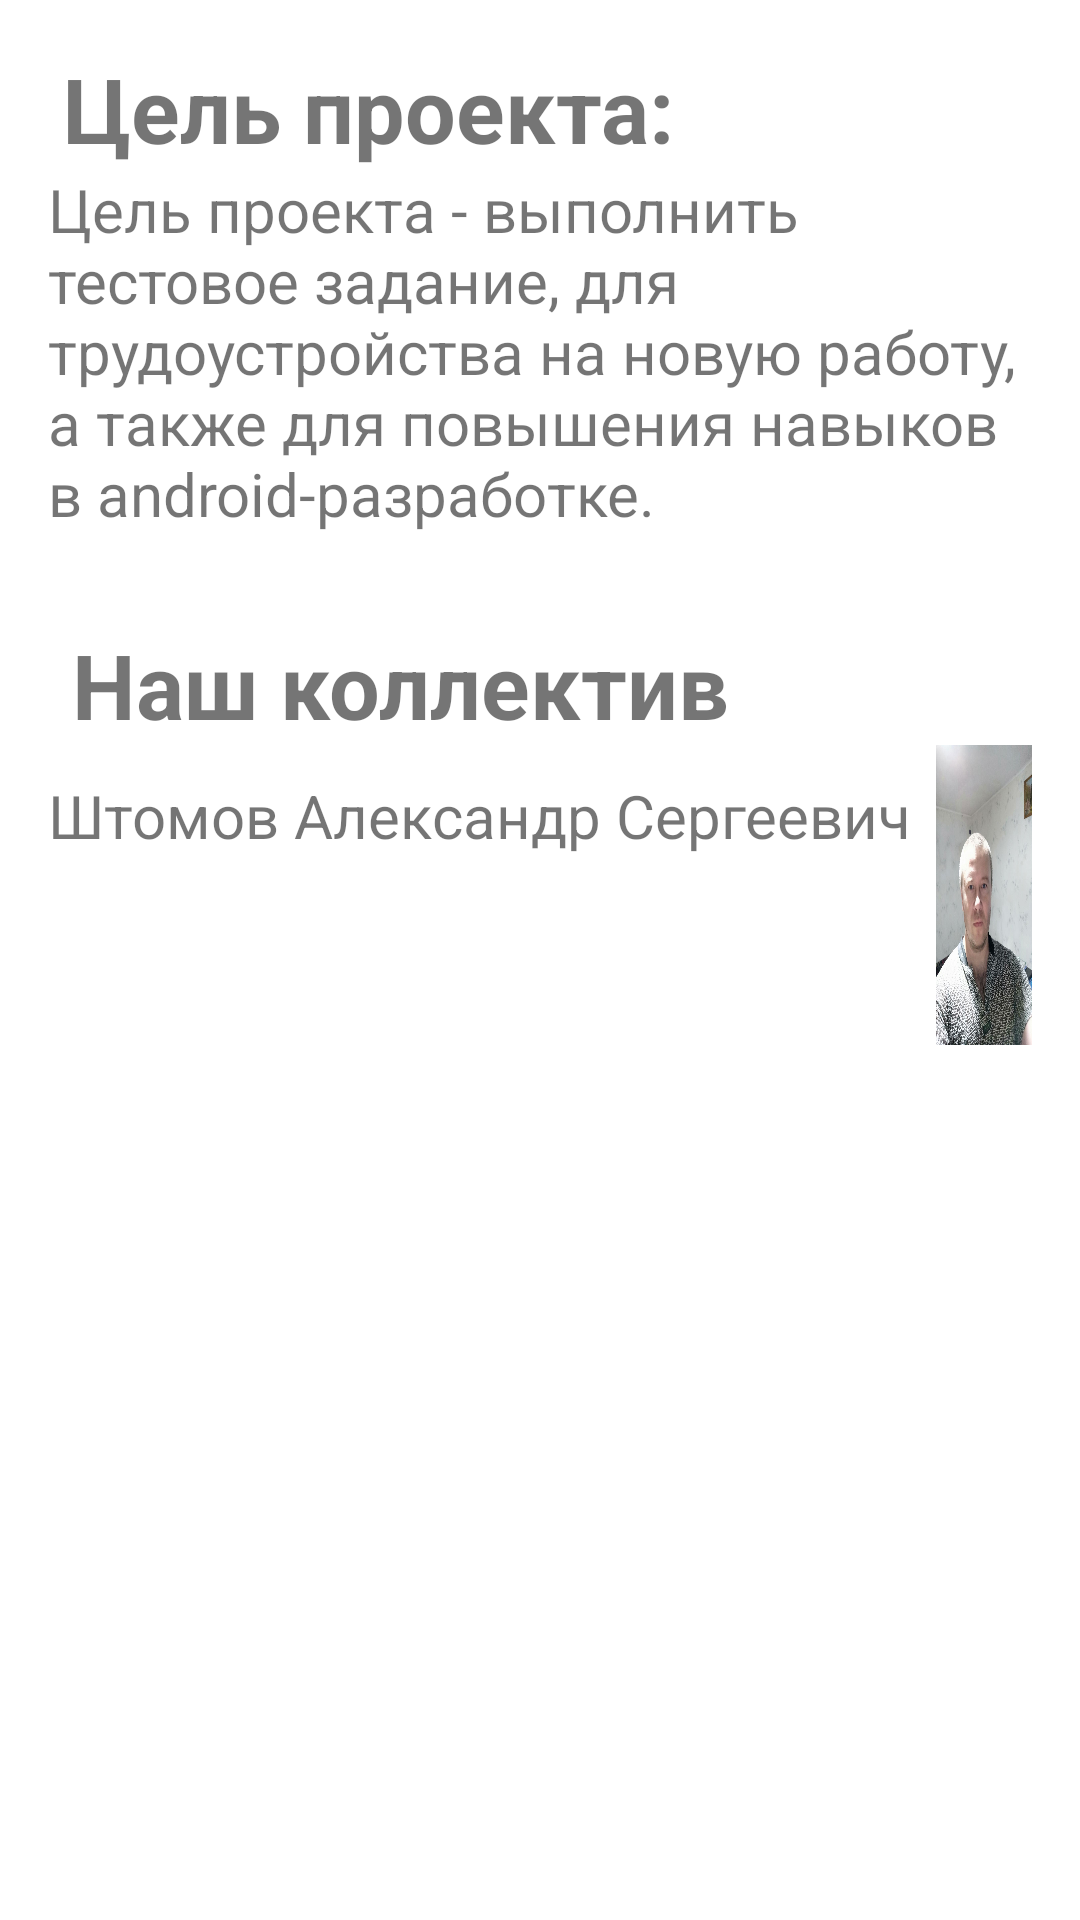

Screen size 1080 × 1920. Icon name, then its center in pixels as point (x, y):
photo: point (984, 895)
